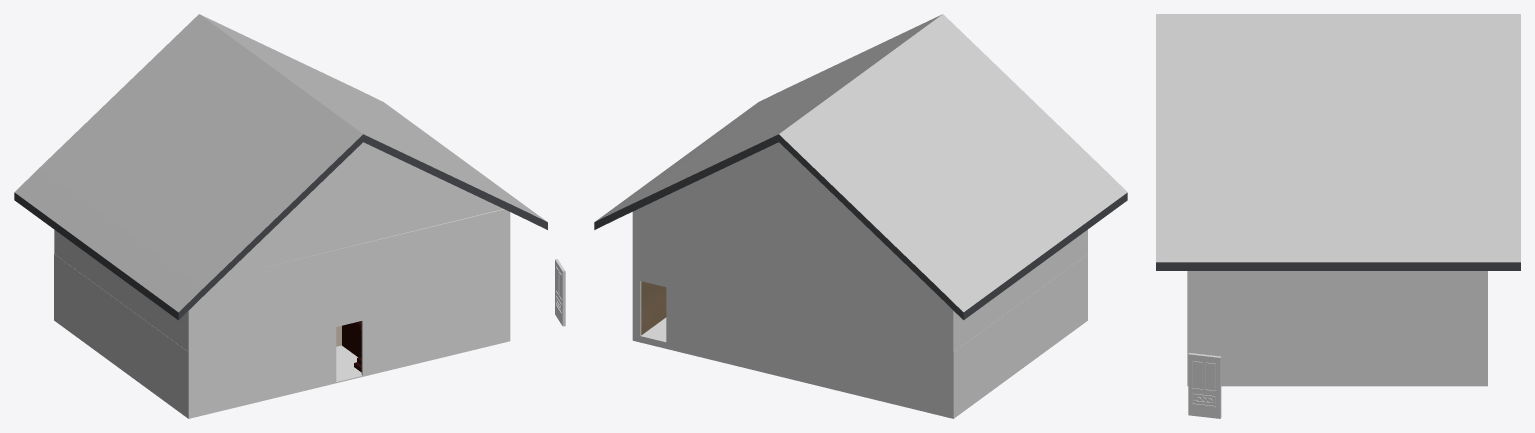
The model's file is house 71.fbx.
3 views of the same model, side by side, from view 1: azimuth 30°, elevation 25°; view 2: azimuth 150°, elevation 25°; view 3: azimuth 270°, elevation 25° (orthographic). The views are drawn at different scales.
Visible parts, largest first — view 1: Outer walls second level.001, Roof, Stairs, door, Floor; view 2: Outer walls second level.001, Roof, Ground inner walls; view 3: Roof, Outer walls second level.001, door.
Boxes of the visible parts, bbox=[...] form: Outer walls second level.001: bbox=[54, 142, 510, 418]; Roof: bbox=[14, 14, 547, 320]; Stairs: bbox=[342, 321, 361, 372]; door: bbox=[555, 259, 565, 326]; Floor: bbox=[336, 345, 361, 380]; Outer walls second level.001: bbox=[632, 142, 1087, 418]; Roof: bbox=[594, 14, 1127, 320]; Ground inner walls: bbox=[641, 281, 666, 335]; Roof: bbox=[1156, 14, 1520, 270]; Outer walls second level.001: bbox=[1187, 271, 1487, 386]; door: bbox=[1188, 353, 1221, 418].
Size of the model in its own units: 1603 by 963 by 1117.
